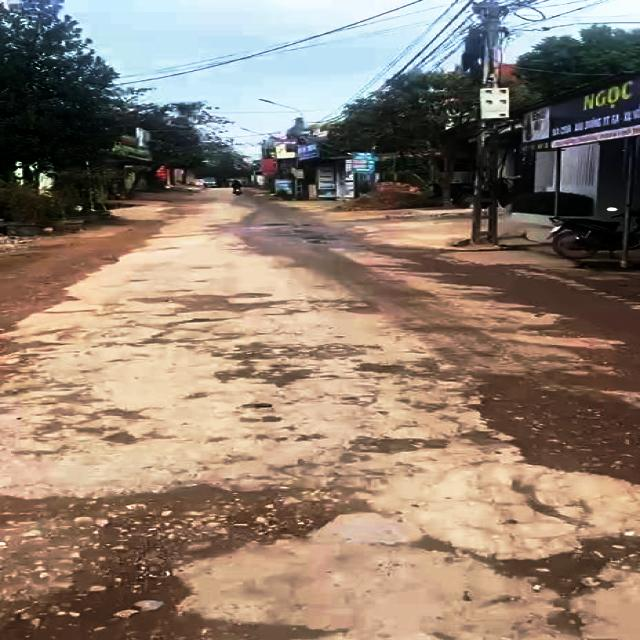pothole: (0, 477, 393, 640), (405, 517, 640, 640), (465, 365, 640, 489), (130, 292, 299, 318), (205, 337, 372, 362), (356, 356, 469, 386), (208, 358, 316, 389), (0, 329, 48, 379), (346, 432, 447, 455), (311, 298, 384, 316)
